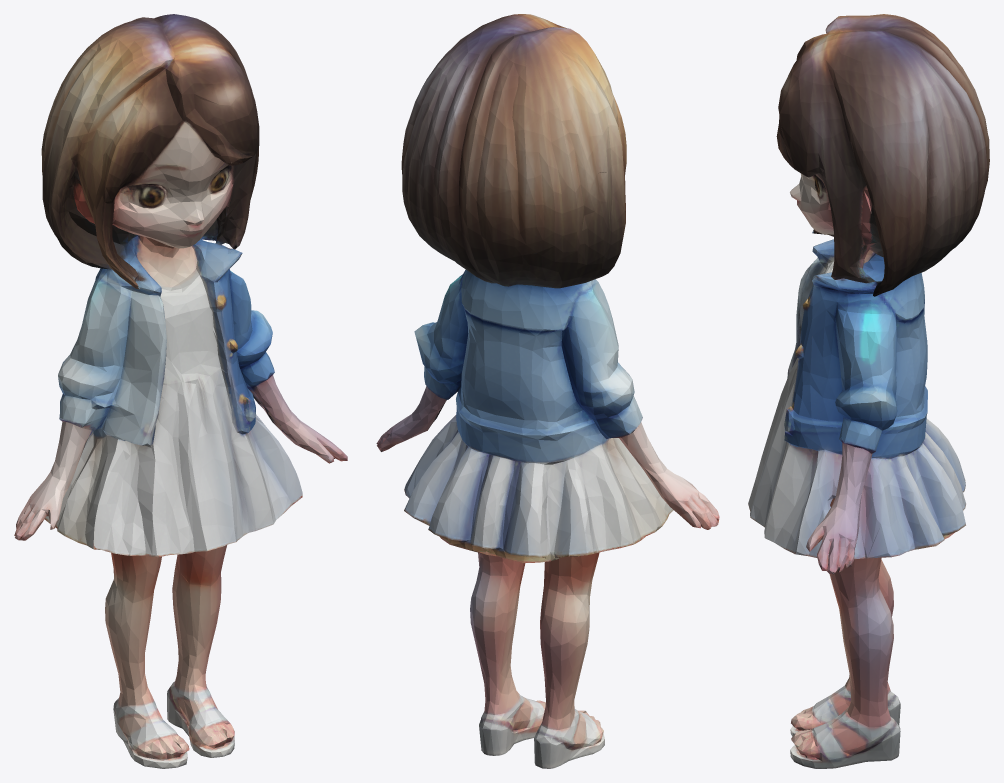
The model's file is rachel_mini_trellis.glb.
3 renders of one model, left to right at view 1: azimuth 30°, elevation 25°; view 2: azimuth 150°, elevation 25°; view 3: azimuth 270°, elevation 25°, orthographic. The views are drawn at different scales.
Size of the model in its own units: 0.4909 by 1 by 0.3043.
1 material, 1 textured.
